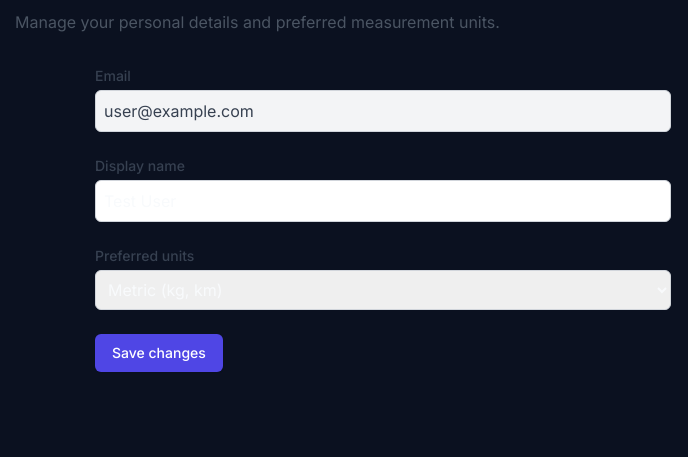
Test: ProfilePage › shows an error message when profile update fails
Click the button "Save changes": (159, 353) [95,334,223,372]
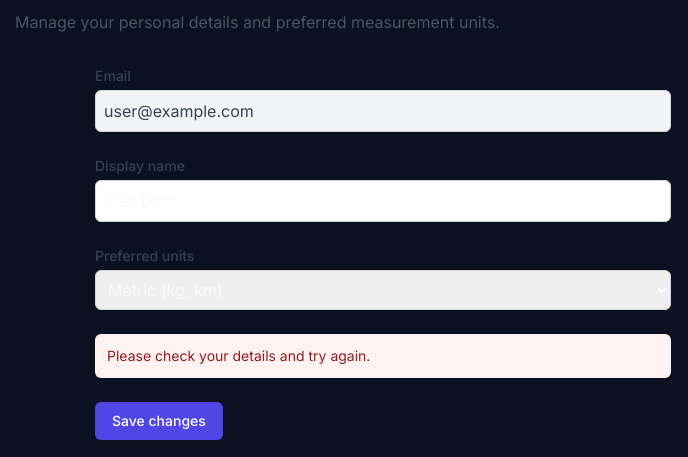
Expected: the text "Please check your details and try again." is shown, [95,334,671,378]
